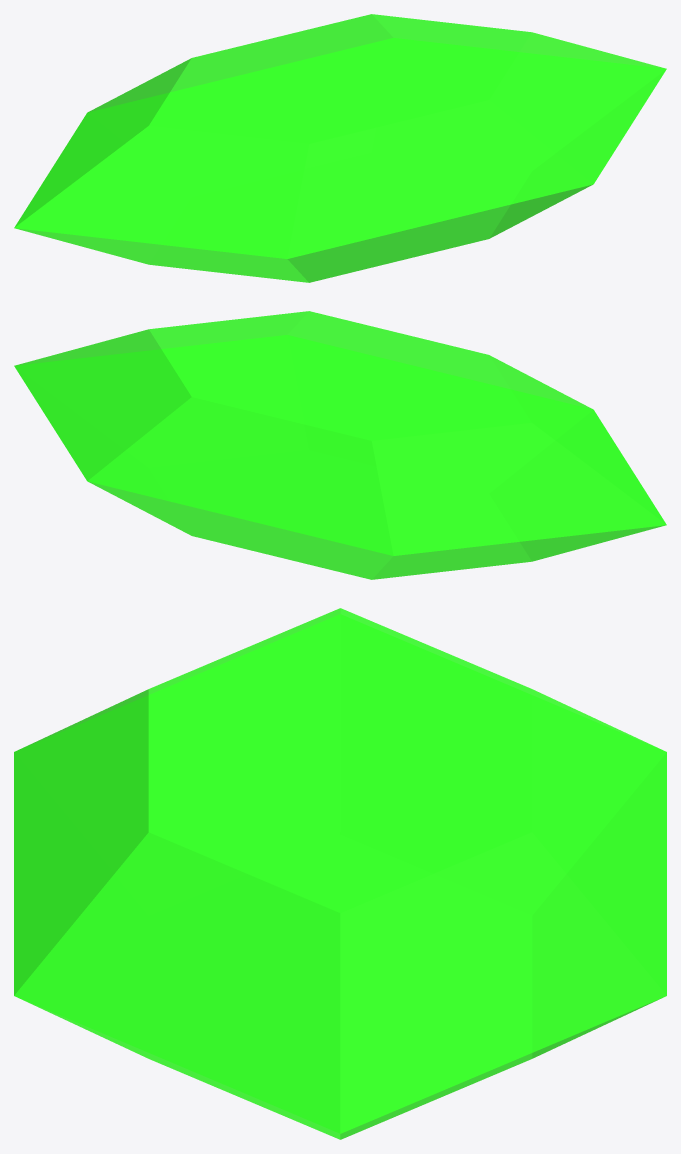
Rendered from rupee.glb.
The picture shows the model from 3 angles, top to bottom: view 1: azimuth 30°, elevation 25°; view 2: azimuth 150°, elevation 25°; view 3: azimuth 270°, elevation 25°; orthographic projection. The views are drawn at different scales.
Visible parts, largest first — view 1: Plane; view 2: Plane; view 3: Plane.
Boxes of the visible parts, bbox=[...] form: Plane: bbox=[14, 14, 666, 282]; Plane: bbox=[14, 311, 666, 579]; Plane: bbox=[14, 608, 666, 1139].
Bounding box in the file's own units: 5.33 × 1.08 × 2.83.
